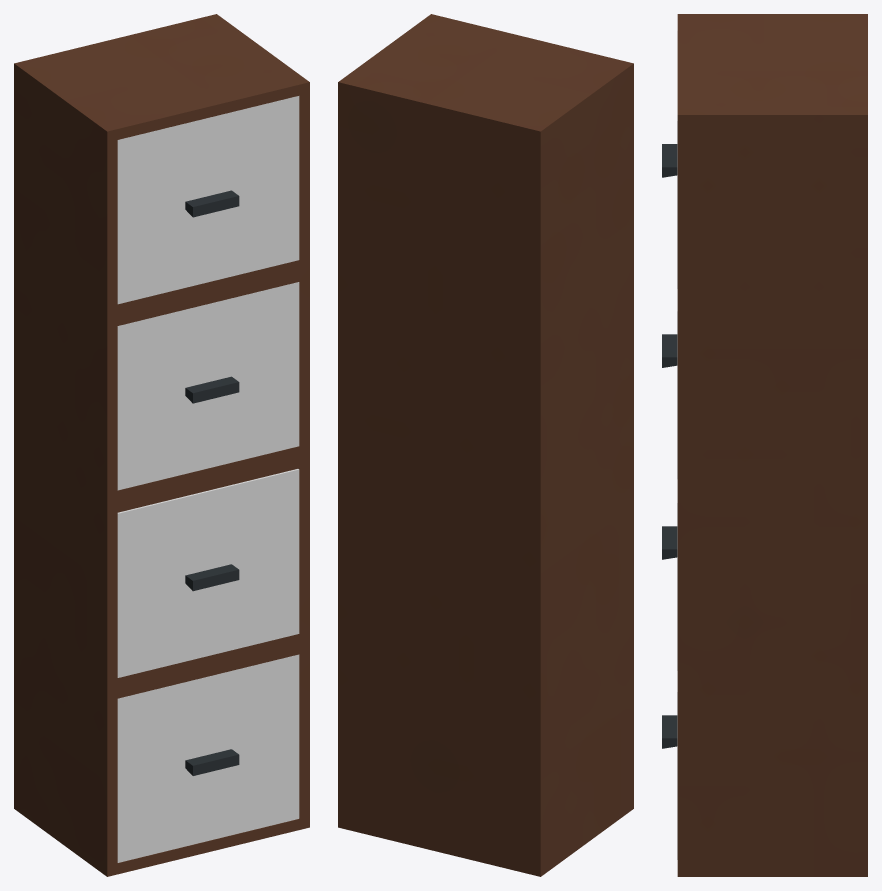
Rendered from Closet_03_02.fbx.
3 renders of one model, left to right at view 1: azimuth 30°, elevation 25°; view 2: azimuth 150°, elevation 25°; view 3: azimuth 270°, elevation 25°, orthographic. The views are drawn at different scales.
Visible parts, largest first — view 1: Closet_03_02, Closet_03_Container.006, Closet_03_Container.007, Closet_03_Container.005, Closet_03_Container.004; view 2: Closet_03_02; view 3: Closet_03_02, Closet_03_Container.004, Closet_03_Container.005, Closet_03_Container.006, Closet_03_Container.007.
Part boxes in pixels (left/top/right/bottom): Closet_03_02: left=14, top=14, right=309, bottom=876; Closet_03_Container.006: left=117, top=469, right=299, bottom=677; Closet_03_Container.007: left=117, top=654, right=299, bottom=862; Closet_03_Container.005: left=117, top=282, right=299, bottom=490; Closet_03_Container.004: left=117, top=96, right=299, bottom=304; Closet_03_02: left=338, top=14, right=633, bottom=876; Closet_03_02: left=677, top=14, right=867, bottom=876; Closet_03_Container.004: left=662, top=31, right=677, bottom=288; Closet_03_Container.005: left=662, top=289, right=677, bottom=478; Closet_03_Container.006: left=662, top=479, right=677, bottom=670; Closet_03_Container.007: left=662, top=671, right=677, bottom=859.
Size of the model in its own units: 0.4966 by 1.75 by 0.4271.
